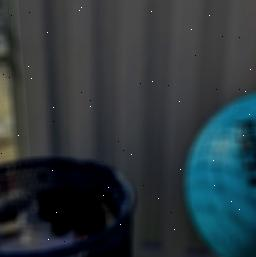algae: (186, 89, 256, 257)
